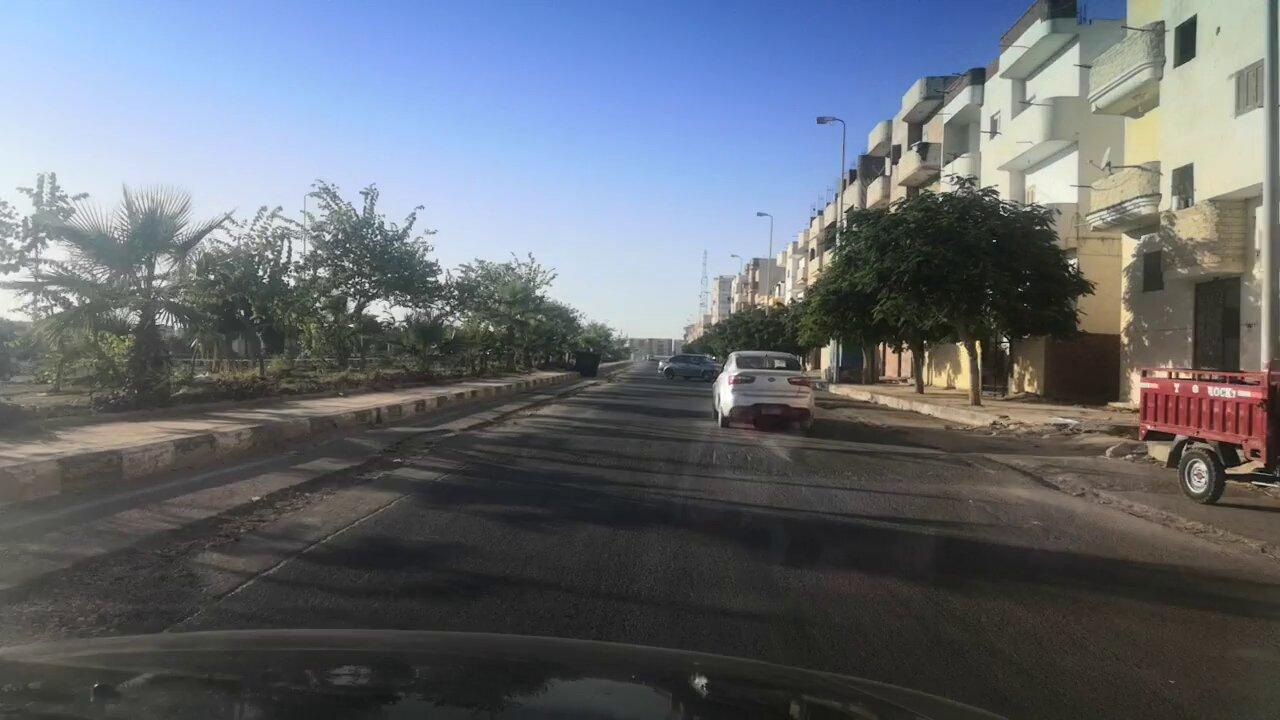Pothole: (30, 462, 422, 658)
